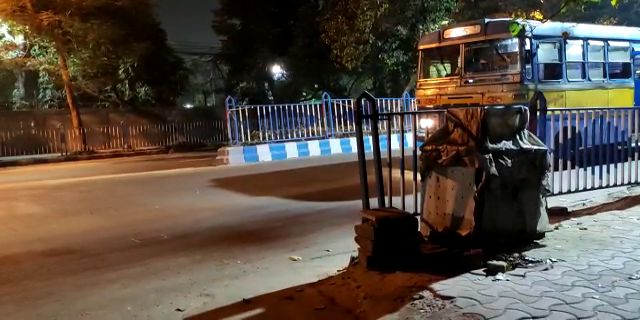Bus: (409, 18, 635, 163)
